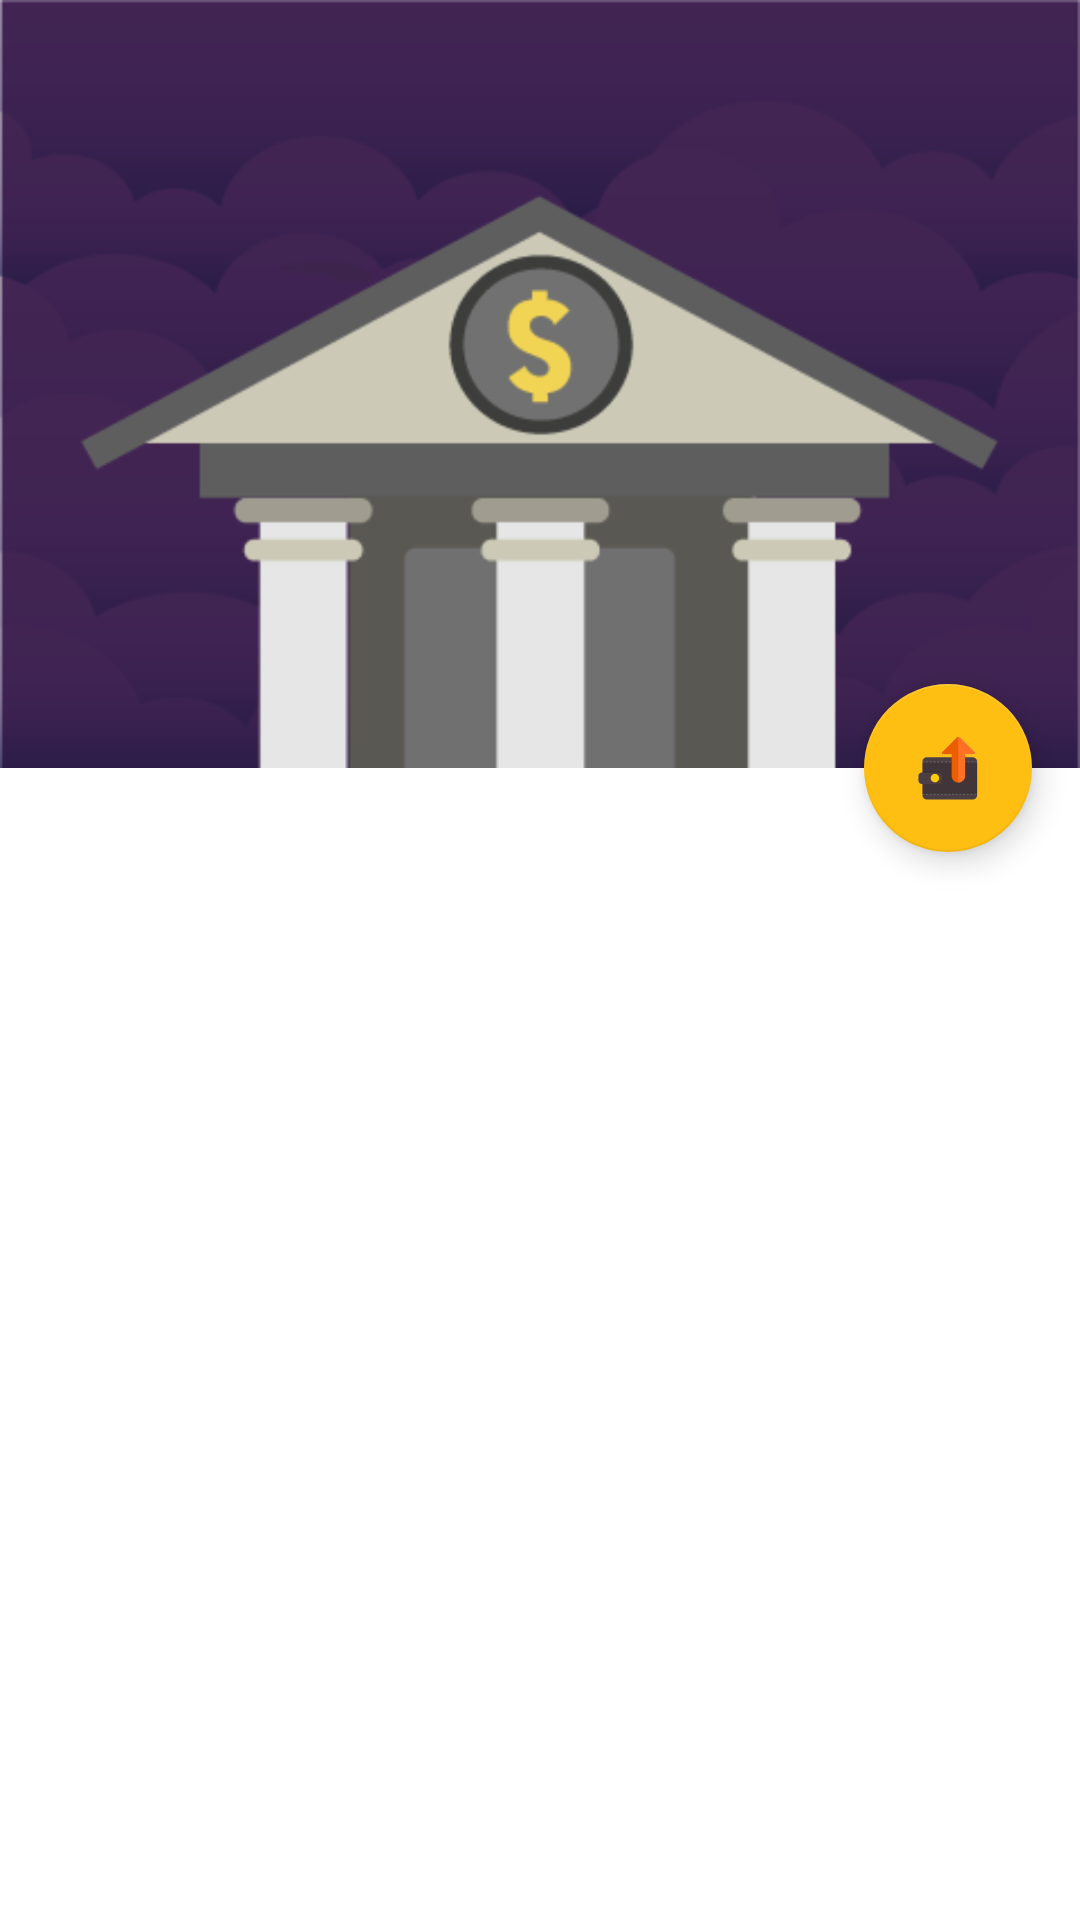

Icons on this 1080 x 1920 Android screen, each with the point to tap as (x=x, y=y):
expenses: (x=948, y=768)
